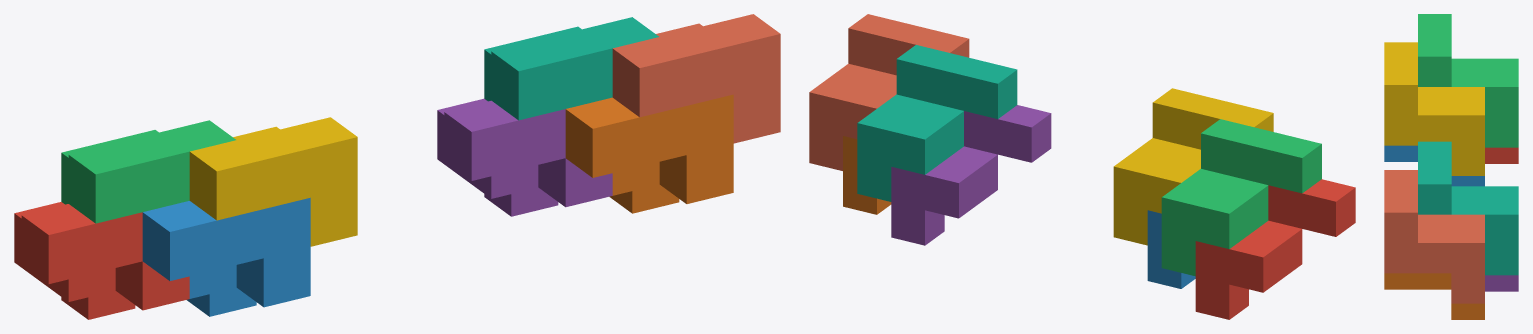
File: tiling.obj
The picture shows the model from 3 angles, left to right: view 1: azimuth 30°, elevation 25°; view 2: azimuth 150°, elevation 25°; view 3: azimuth 270°, elevation 25°; orthographic projection. The views are drawn at different scales.
Visible parts, largest first — view 1: copy_1_domain_6, copy_1_domain_2, copy_1_domain_4, copy_1_domain_8, copy_1_domain_5, copy_1_domain_1, copy_1_domain_3, copy_1_domain_7; view 2: copy_1_domain_3, copy_1_domain_7, copy_1_domain_1, copy_1_domain_5, copy_1_domain_4, copy_1_domain_8, copy_1_domain_2, copy_1_domain_6; view 3: copy_1_domain_8, copy_1_domain_4, copy_1_domain_7, copy_1_domain_3, copy_1_domain_6, copy_1_domain_2, copy_1_domain_1, copy_1_domain_5.
Boxes of the visible parts, x1,y1,x2,y2 form: copy_1_domain_6: [565, 94, 733, 213]; copy_1_domain_2: [142, 197, 310, 316]; copy_1_domain_4: [189, 117, 357, 246]; copy_1_domain_8: [612, 14, 780, 143]; copy_1_domain_5: [437, 98, 612, 216]; copy_1_domain_1: [14, 202, 189, 319]; copy_1_domain_3: [61, 120, 235, 223]; copy_1_domain_7: [484, 17, 658, 120]; copy_1_domain_3: [1161, 119, 1321, 276]; copy_1_domain_7: [857, 45, 1017, 201]; copy_1_domain_1: [1195, 179, 1355, 319]; copy_1_domain_5: [891, 105, 1051, 245]; copy_1_domain_4: [1113, 88, 1273, 245]; copy_1_domain_8: [809, 14, 969, 170]; copy_1_domain_2: [1147, 210, 1195, 288]; copy_1_domain_6: [843, 136, 891, 214]; copy_1_domain_8: [1384, 170, 1484, 303]; copy_1_domain_4: [1384, 42, 1484, 175]; copy_1_domain_7: [1418, 141, 1518, 275]; copy_1_domain_3: [1418, 14, 1518, 147]; copy_1_domain_6: [1384, 273, 1484, 319]; copy_1_domain_2: [1384, 145, 1484, 186]; copy_1_domain_1: [1485, 147, 1518, 163]; copy_1_domain_5: [1485, 275, 1518, 291].
Size of the model in its own units: 15 by 4 by 4.
